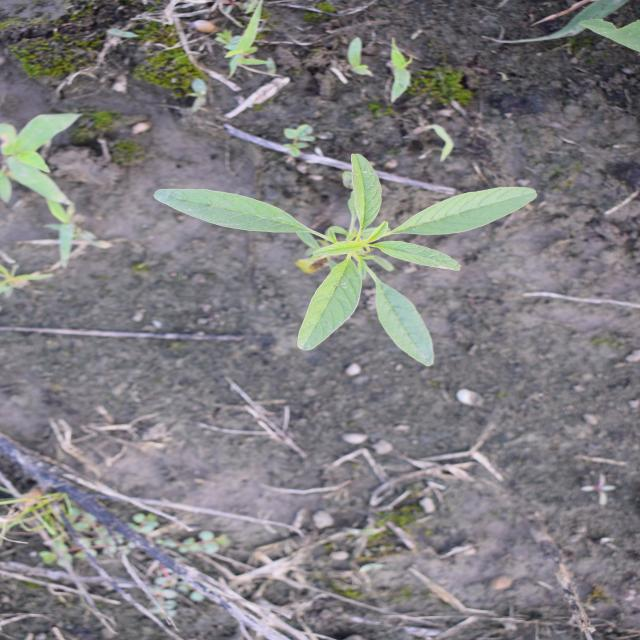Waterhemp: (152, 150, 541, 369)
